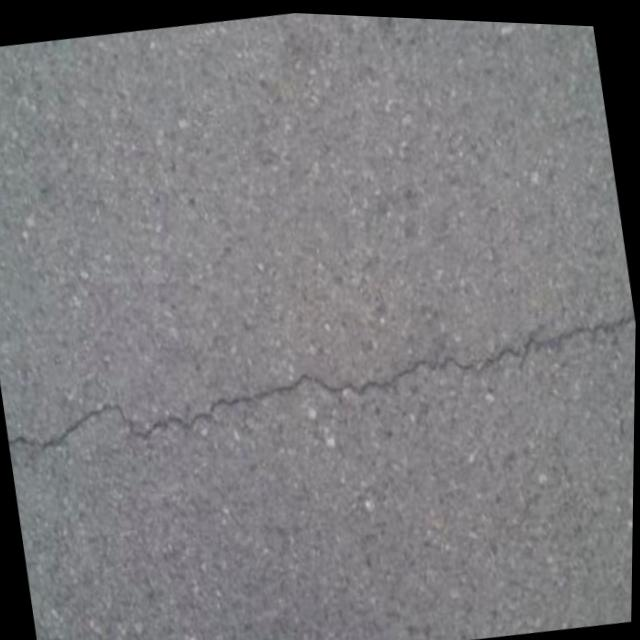Crack: (0, 264, 637, 496)
